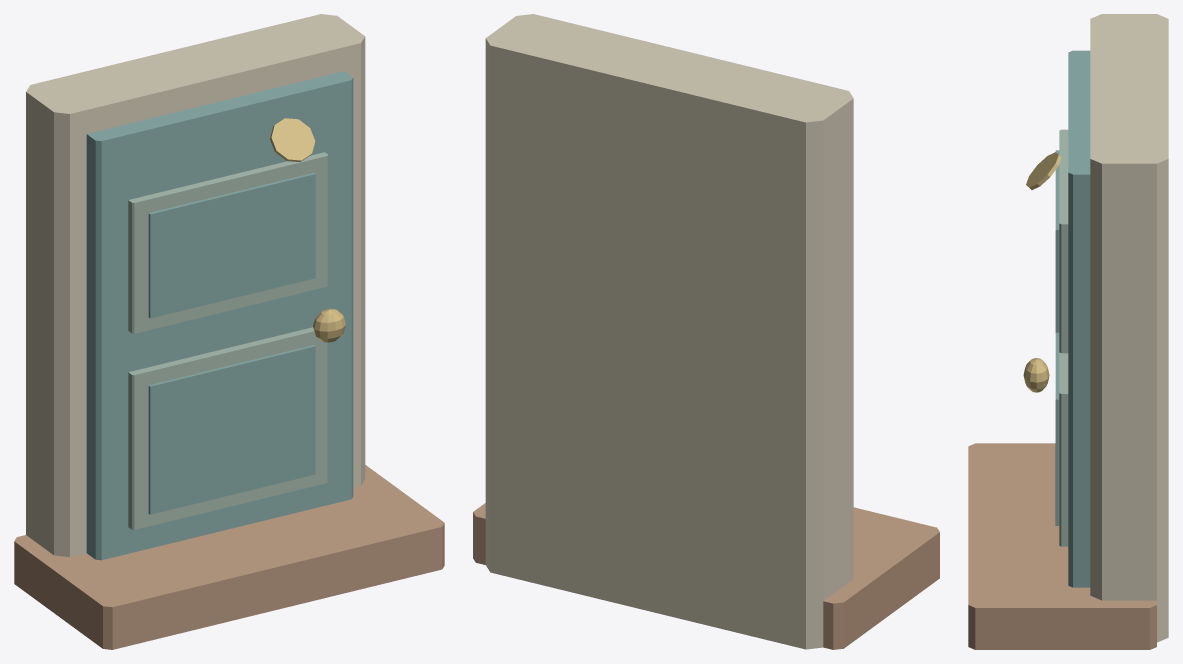
The model's file is locked-front-door.glb.
The picture shows the model from 3 angles, left to right: view 1: azimuth 30°, elevation 25°; view 2: azimuth 150°, elevation 25°; view 3: azimuth 270°, elevation 25°; orthographic projection. The views are drawn at different scales.
Parts seen in each view (by area): view 1: locked-front-door; view 2: locked-front-door; view 3: locked-front-door.
Boxes of the visible parts, left/top/right/bottom form: locked-front-door: left=14, top=14, right=444, bottom=649; locked-front-door: left=473, top=14, right=939, bottom=649; locked-front-door: left=968, top=14, right=1168, bottom=649.
Size of the model in its own units: 1.34 by 1.82 by 0.69.
